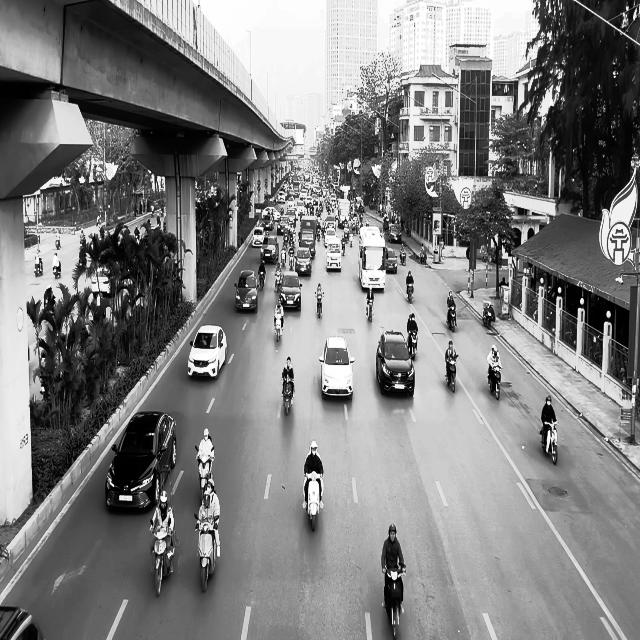car: (105, 411, 177, 510), (376, 329, 416, 397), (319, 335, 355, 398), (188, 324, 228, 379), (0, 605, 43, 639), (234, 270, 258, 312), (279, 272, 302, 311), (260, 235, 279, 263), (386, 248, 398, 274)
motorbike: (194, 513, 220, 592), (150, 522, 176, 596), (382, 563, 406, 639), (303, 471, 324, 532), (195, 445, 215, 503), (540, 420, 558, 465), (445, 353, 459, 393), (488, 366, 502, 400), (282, 376, 294, 415), (482, 301, 494, 328), (408, 329, 418, 359), (274, 312, 284, 341), (447, 306, 457, 332), (316, 292, 324, 318), (366, 297, 374, 322), (34, 256, 43, 276), (274, 271, 282, 293), (53, 259, 61, 278), (407, 282, 414, 303), (259, 271, 265, 290), (401, 251, 406, 265)
truck: (358, 225, 387, 292)
